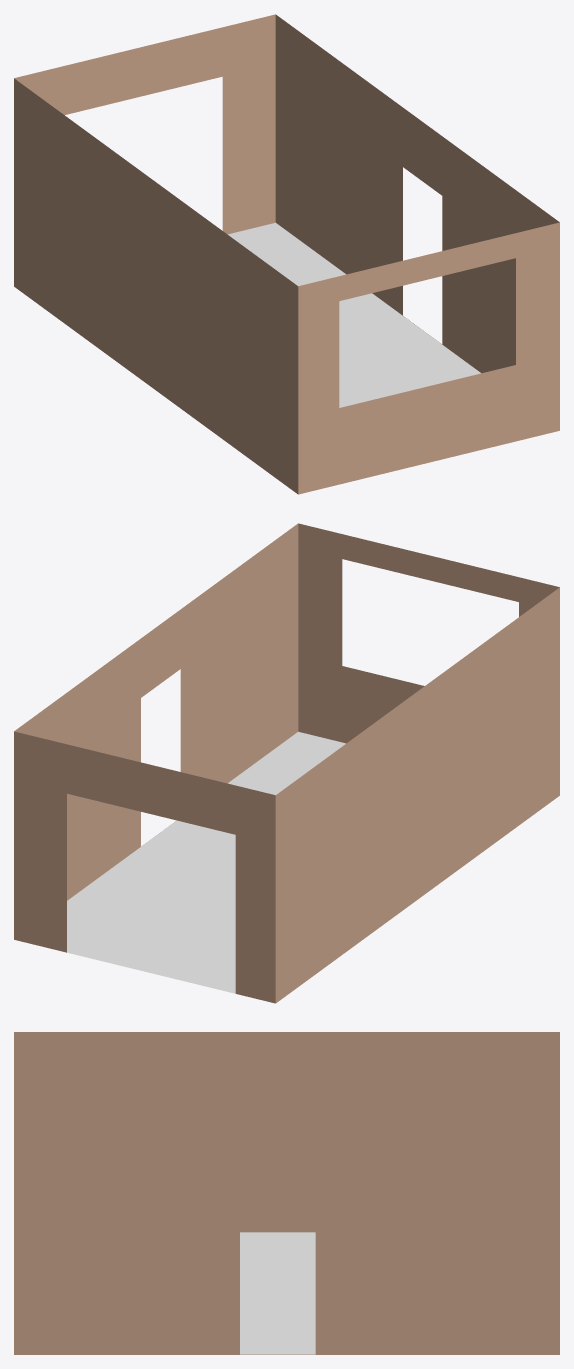
File: Cuisine_murs_ext.fbx
3 views of the same model, one above another, from view 1: azimuth 30°, elevation 25°; view 2: azimuth 150°, elevation 25°; view 3: azimuth 270°, elevation 25° (orthographic). The views are drawn at different scales.
Visible parts, largest first — view 1: Cuisine; view 2: Cuisine; view 3: Cuisine.
Boxes of the visible parts, x1,y1,x2,y2 form: Cuisine: (14, 14, 559, 494); Cuisine: (14, 523, 559, 1003); Cuisine: (14, 1032, 559, 1354).
Bounding box in the file's own units: 460 × 350 × 865.
